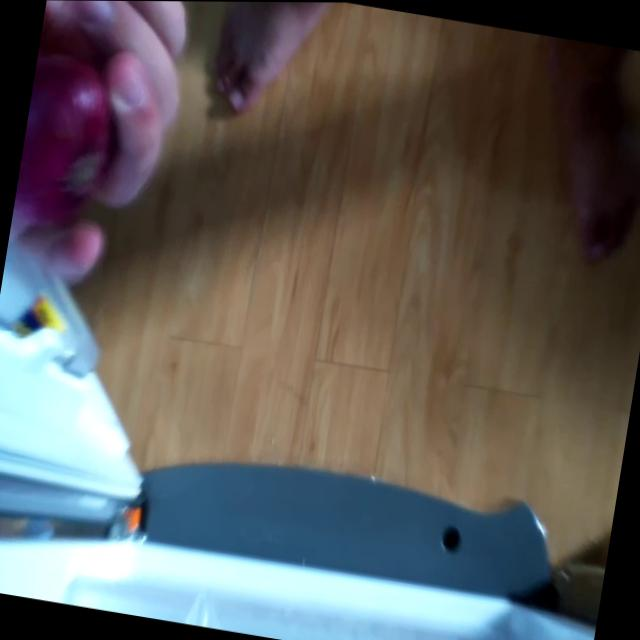onion: (13, 49, 123, 228)
